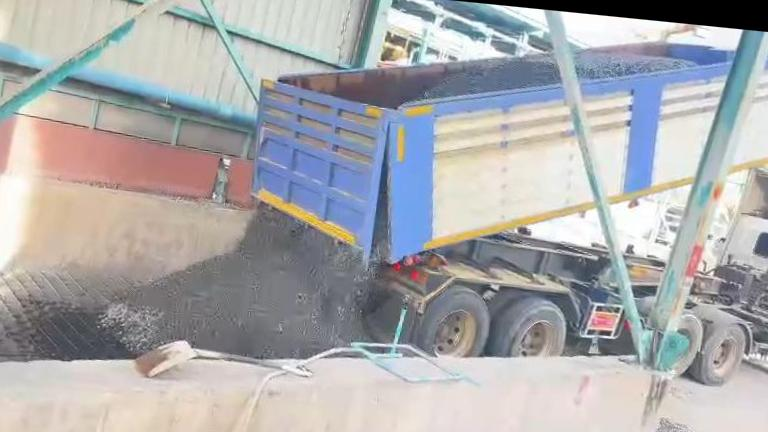gravel: (101, 208, 371, 357), (415, 53, 560, 100), (575, 53, 695, 80), (632, 419, 761, 432)
